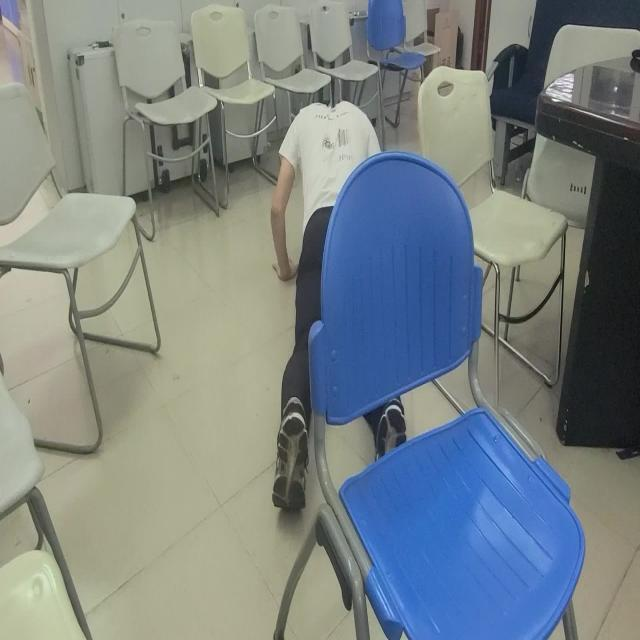fall: (270, 99, 410, 523)
